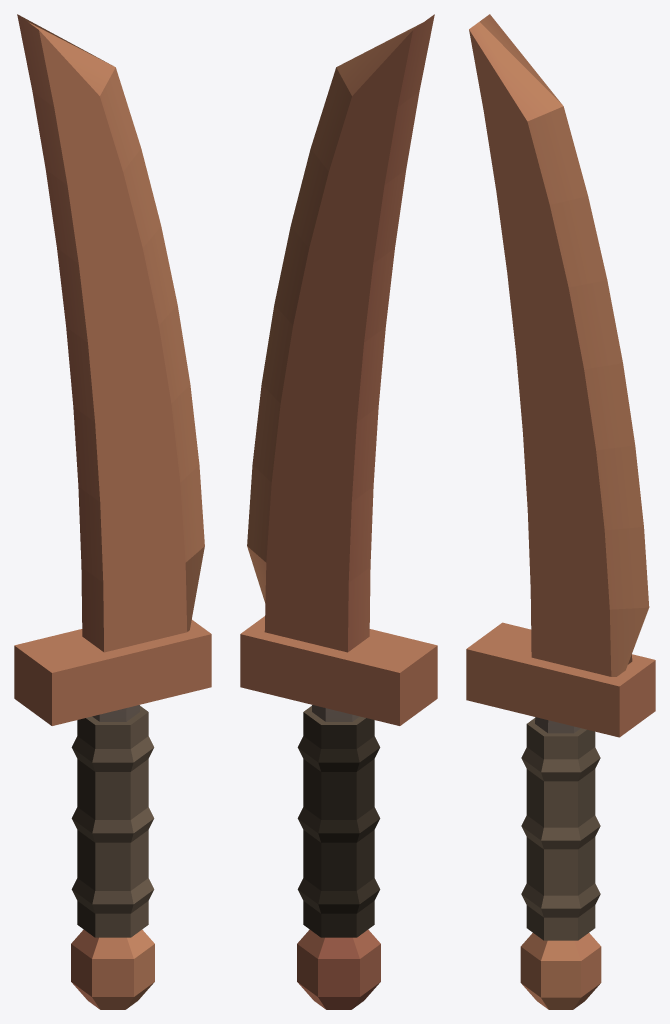
File: rogue_nightblade_0.gltf
The picture shows the model from 3 angles, left to right: view 1: azimuth 30°, elevation 25°; view 2: azimuth 150°, elevation 25°; view 3: azimuth 330°, elevation 25°; orthographic projection. The views are drawn at different scales.
Parts seen in each view (by area): view 1: rogue_nightblade_0; view 2: rogue_nightblade_0; view 3: rogue_nightblade_0.
Part boxes in pixels (left/top/right/bottom): rogue_nightblade_0: left=14, top=14, right=211, bottom=1009; rogue_nightblade_0: left=240, top=14, right=437, bottom=1009; rogue_nightblade_0: left=466, top=14, right=655, bottom=1009.
Size of the model in its own units: 0.2436 by 1.31 by 0.1.
Materials: 1 (1 with a texture image).
